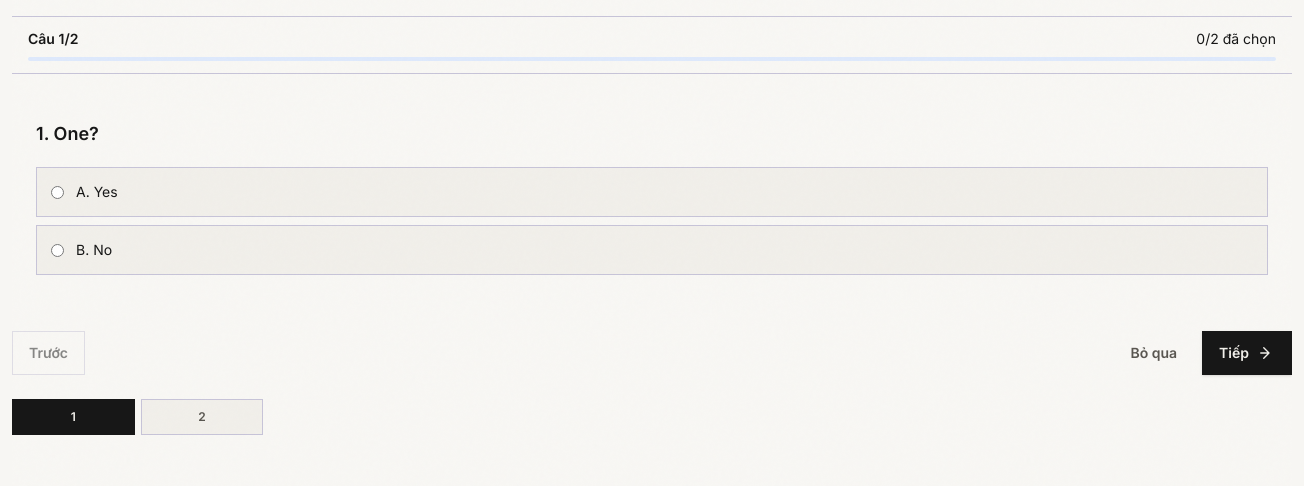
Test case: TestRunner › confirms saved state for authenticated users
This screenshot has width=1304, height=486.
Step 1. Click the radio button labelled "A. Yes" → coordinates (58, 192), box top-left (51, 186), bottom-right (64, 199)
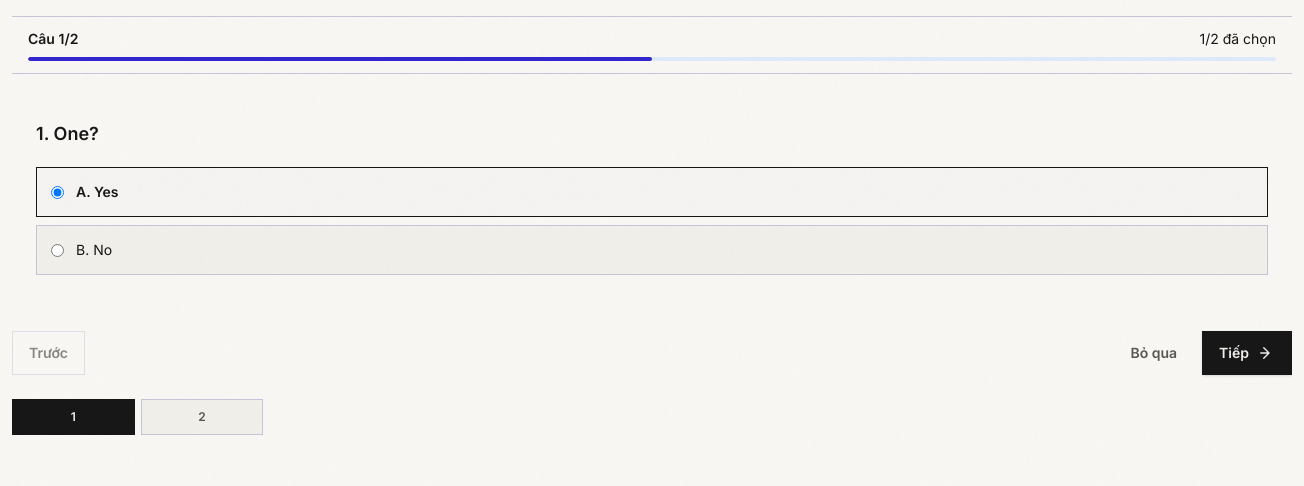
Step 2. Click the button "Tiếp" → coordinates (1247, 353), box top-left (1202, 331), bottom-right (1292, 375)
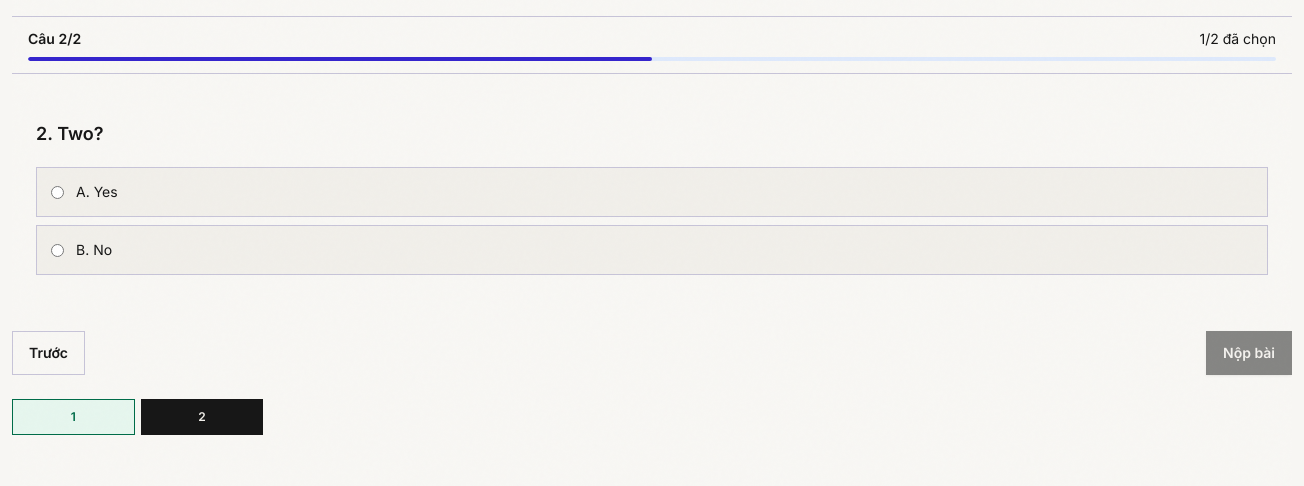
Step 3. Click the radio button labelled "A. Yes" → coordinates (58, 192), box top-left (51, 186), bottom-right (64, 199)
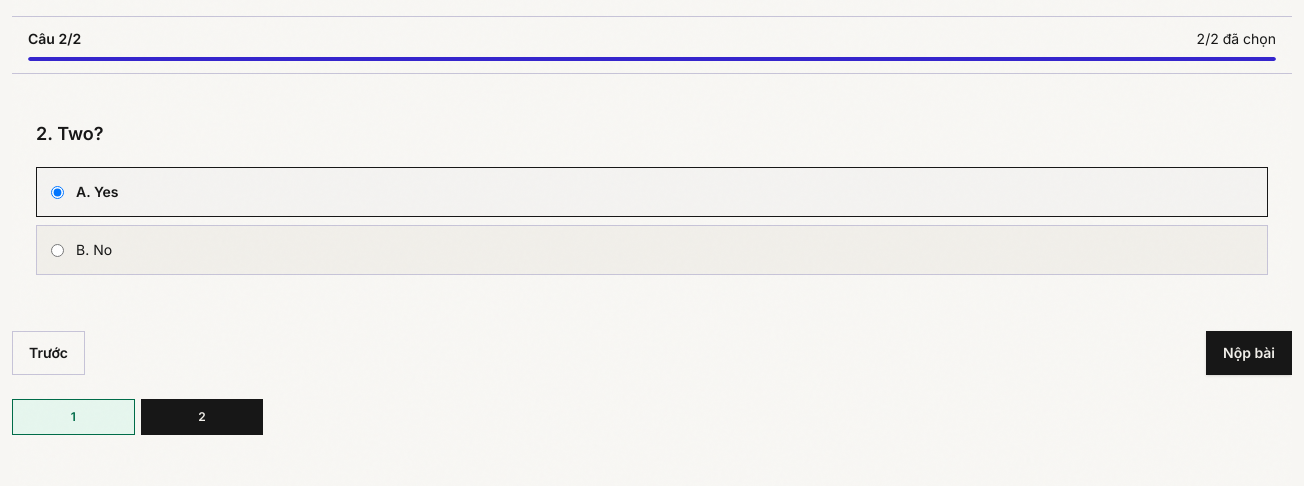
Step 4. Click the button "Nộp bài" → coordinates (1249, 353), box top-left (1206, 331), bottom-right (1292, 375)
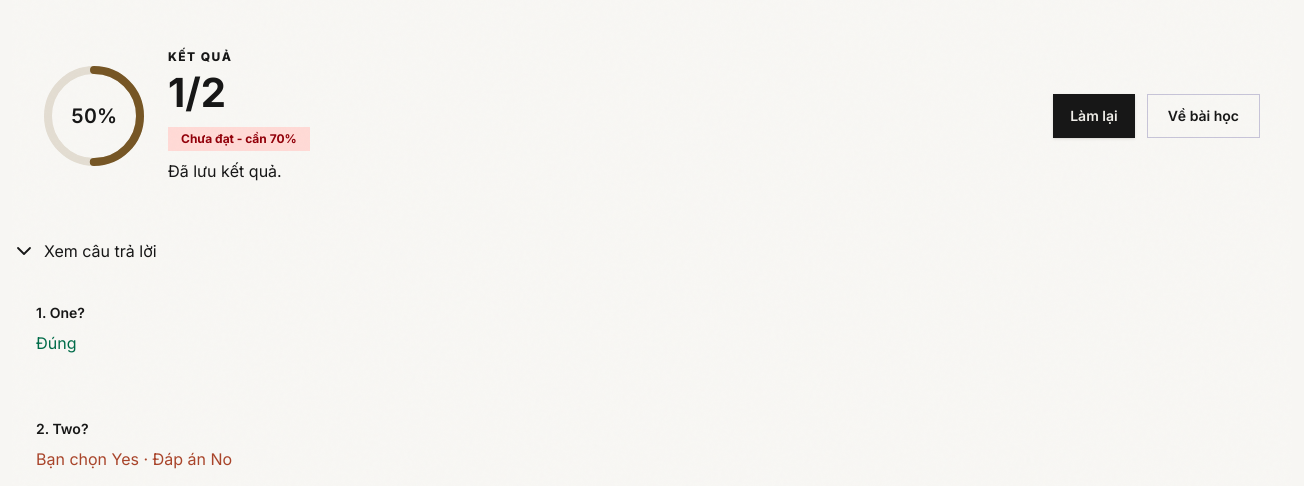
Now the text "Đã lưu kết quả." is shown, box top-left (168, 161), bottom-right (282, 181)
